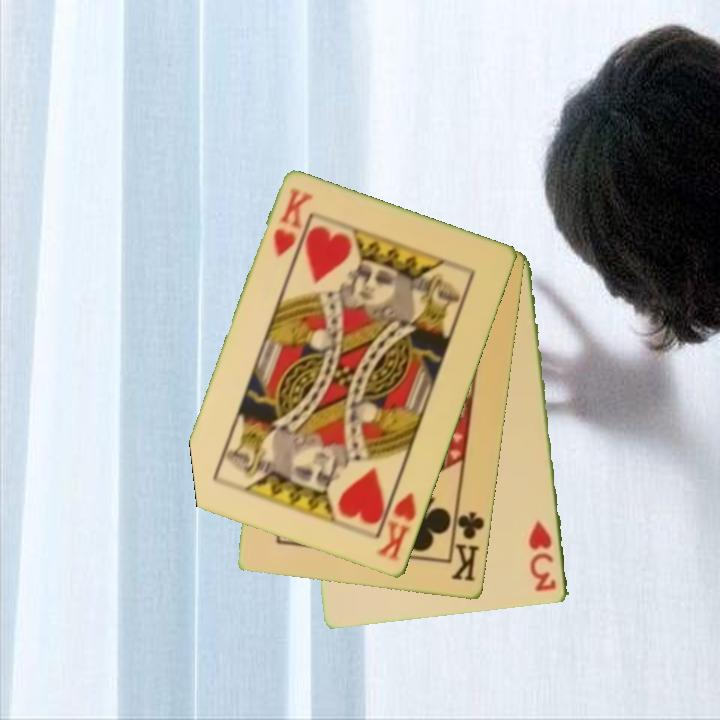3h: (525, 518, 560, 595)
Kc: (447, 503, 488, 585)
Kh: (373, 480, 420, 565), (270, 184, 316, 260)
